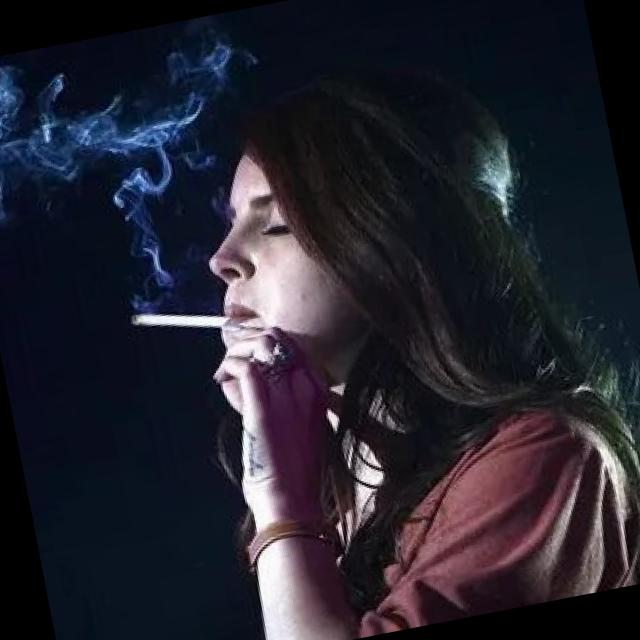smoke: (126, 283, 258, 360)
